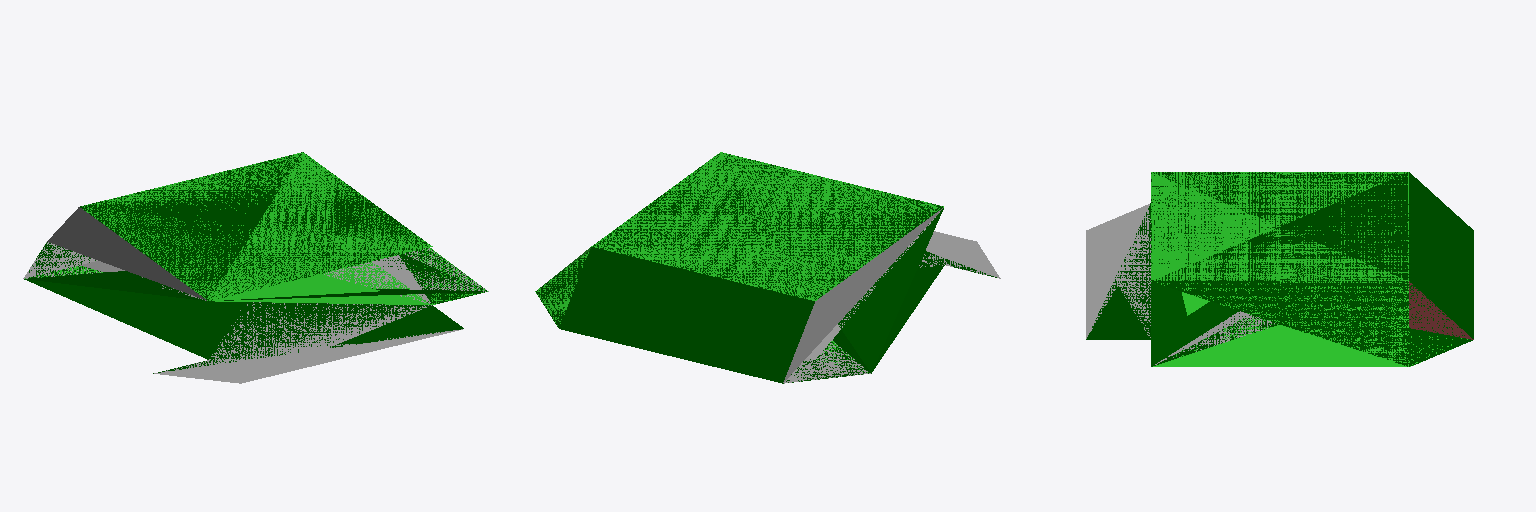
3 renders of one model, left to right at view 1: azimuth 30°, elevation 25°; view 2: azimuth 150°, elevation 25°; view 3: azimuth 270°, elevation 25°, orthographic.
Size of the model in its own units: 6 by 1 by 6.
Materials: 1 (1 with a texture image).